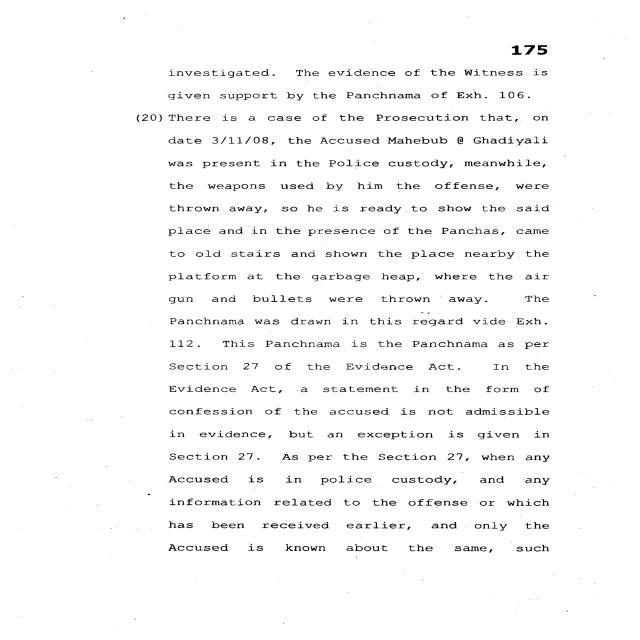page-number: (425, 0, 639, 61)
